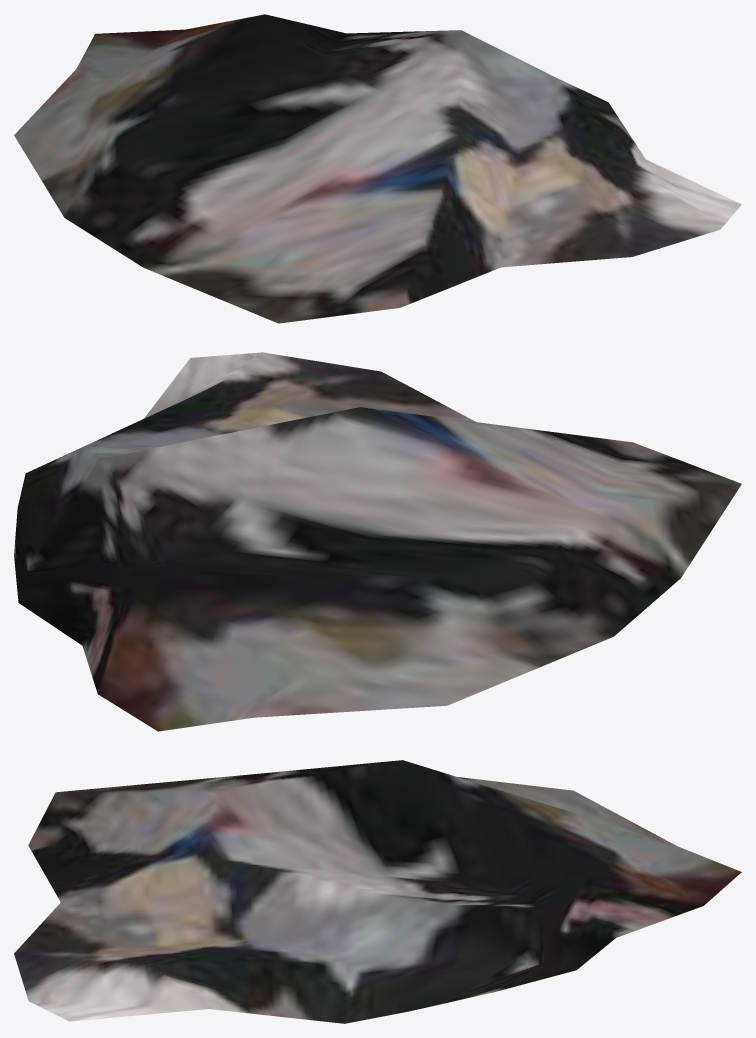
Rendered from laundry_3.FBX.
3 views of the same model, one above another, from view 1: azimuth 30°, elevation 25°; view 2: azimuth 150°, elevation 25°; view 3: azimuth 270°, elevation 25° (orthographic). The views are drawn at different scales.
Visible parts, largest first — view 1: laundry_3; view 2: laundry_3; view 3: laundry_3.
Boxes of the visible parts, x1,y1,x2,y2 form: laundry_3: (14, 14, 741, 323); laundry_3: (14, 352, 741, 731); laundry_3: (14, 760, 741, 1023).
Size of the model in its own units: 17.71 by 2.34 by 21.28.
